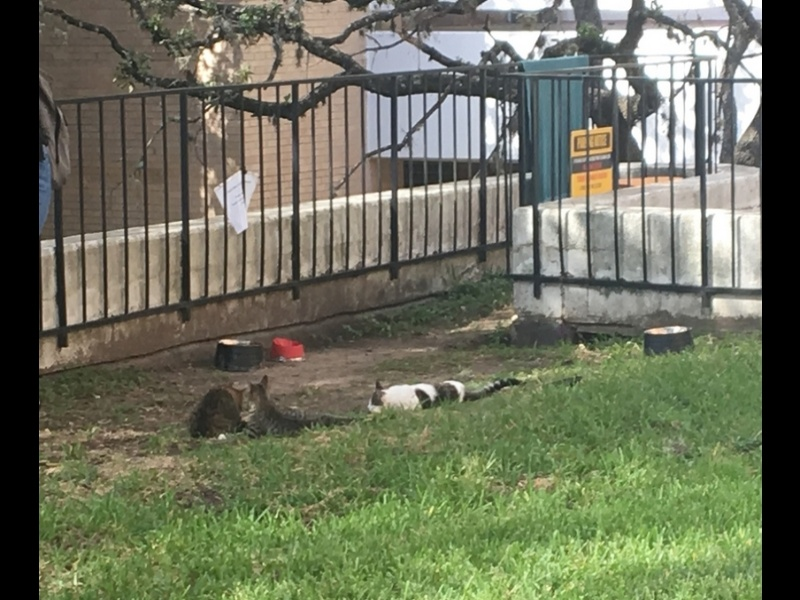cat: (220, 380, 348, 437), (364, 379, 514, 412), (187, 376, 249, 440)
